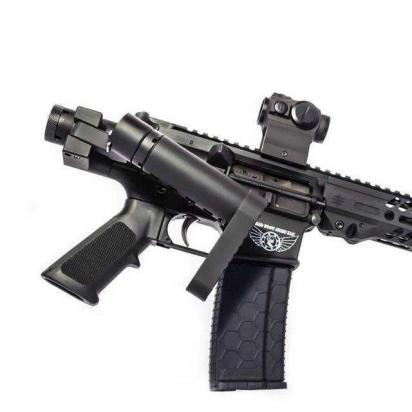Gun: (31, 89, 412, 412)
